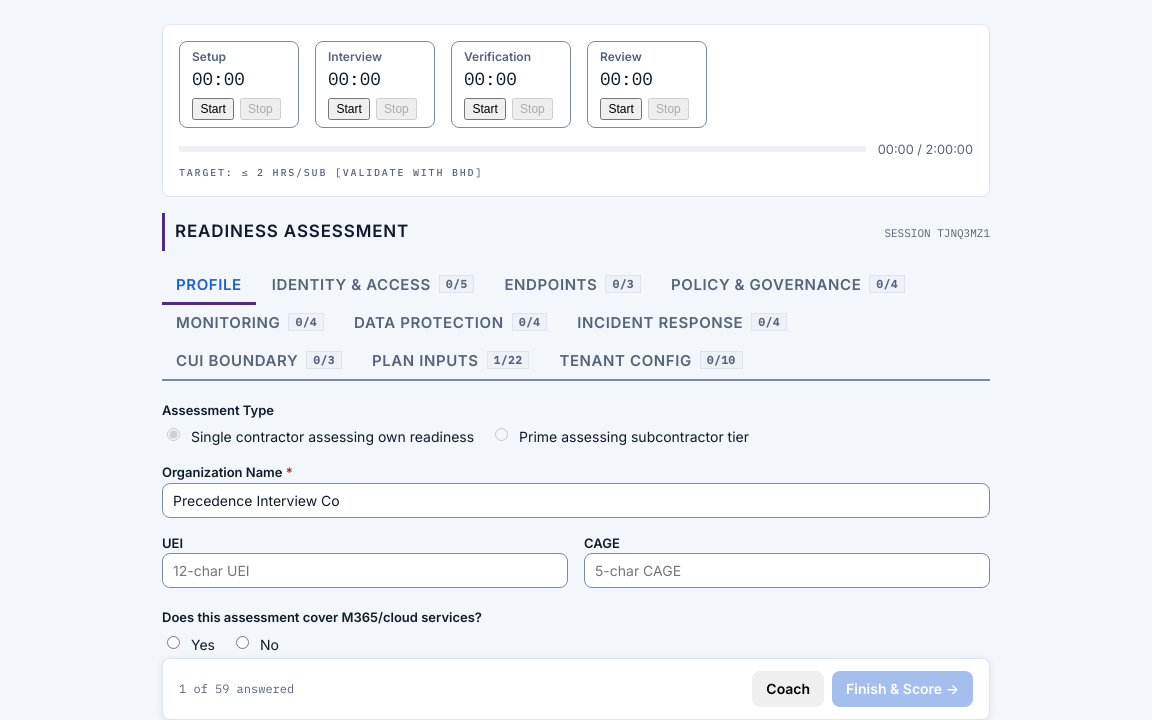
Test: MU-10 precedence in the interview › an operator-answered SIT-020 stays on screen with its answer; un-answered derived S-20 is pruned
What coordinates should you click on to do the following:
click the tab with test id "tab-plan-input:si"
I would click on:
 (451, 362)
Its box is [358,343,543,381].
(page scrolled)
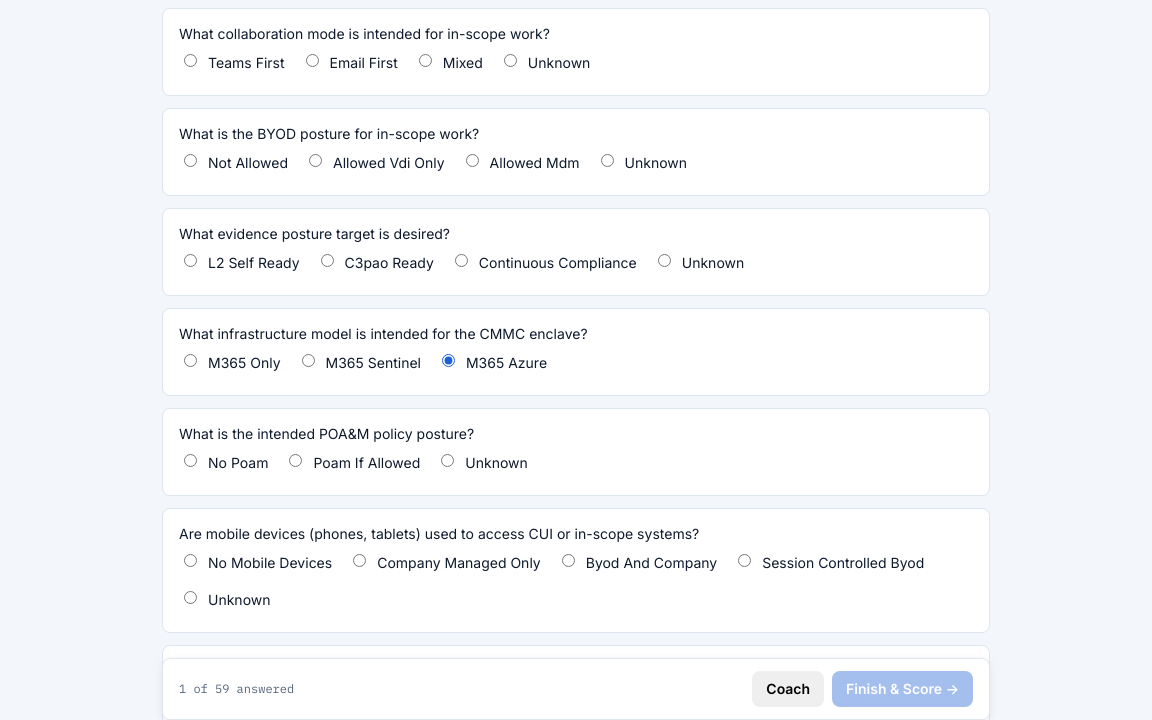
Now the radio button named "SIT-020" holds "m365_azure", box [442,354,455,367]
